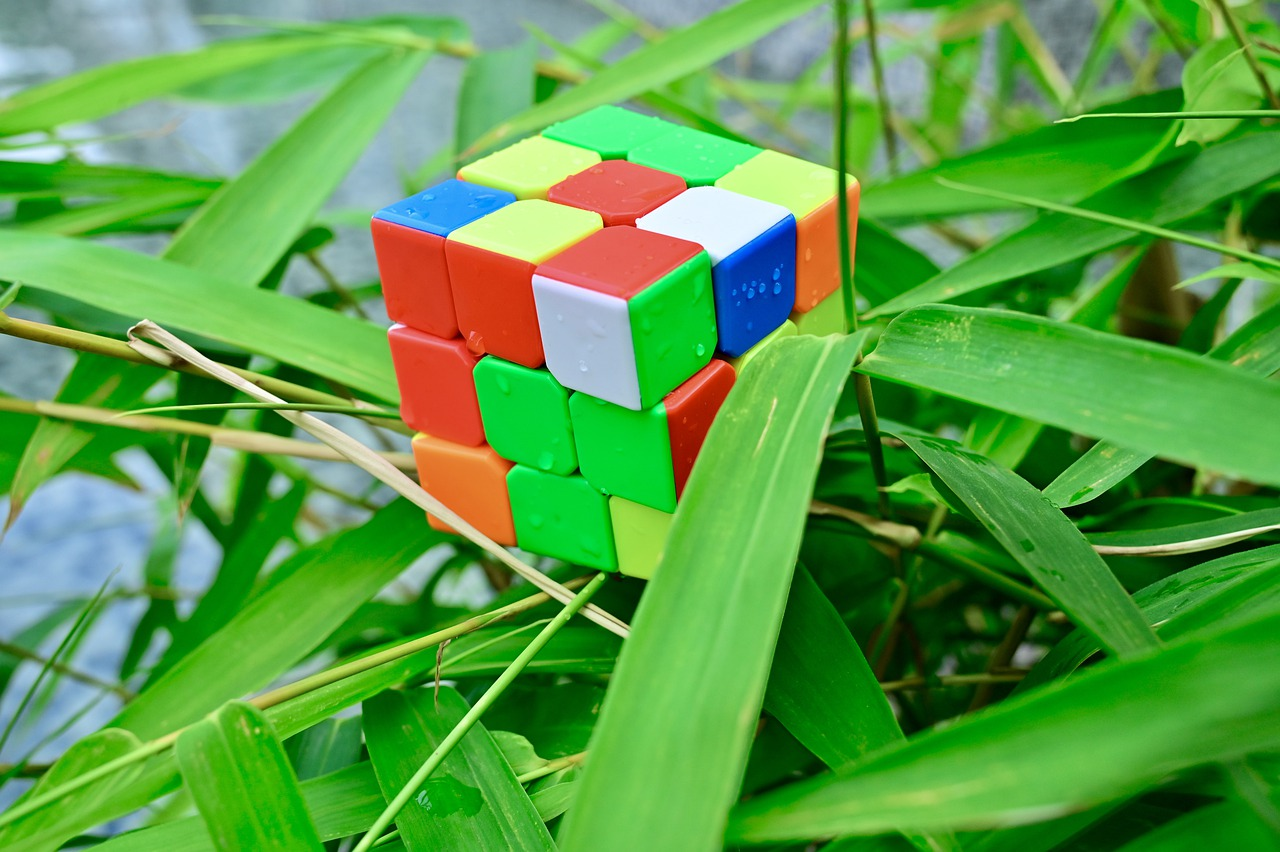cube: (370, 105, 861, 585)
